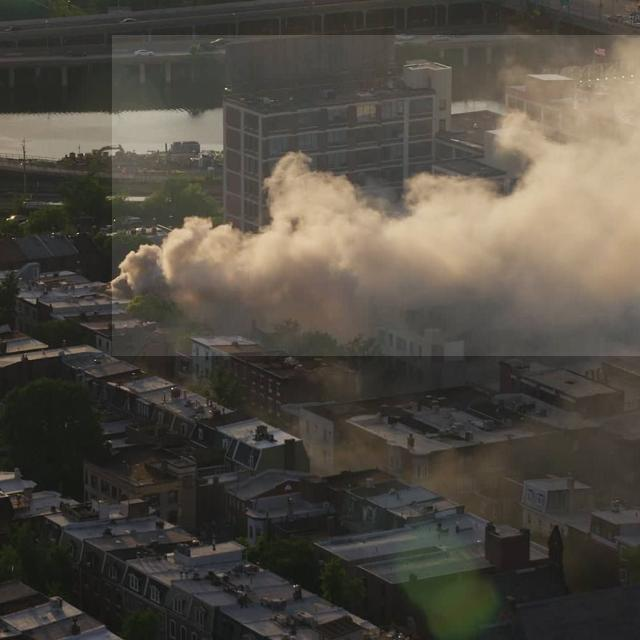Smoke: (112, 35, 640, 356)
